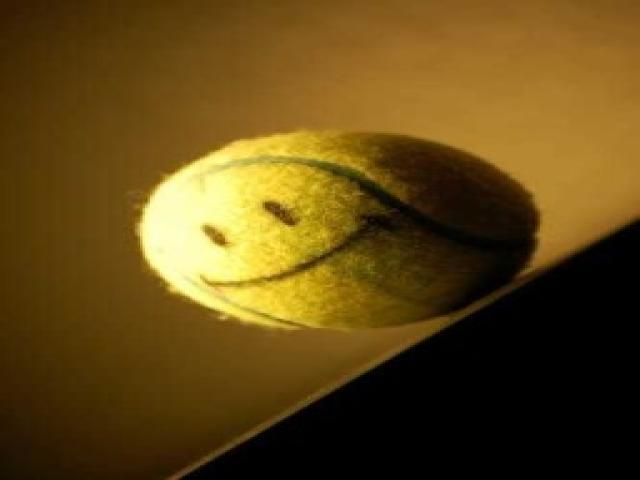tennis-ball: (137, 128, 538, 334)
